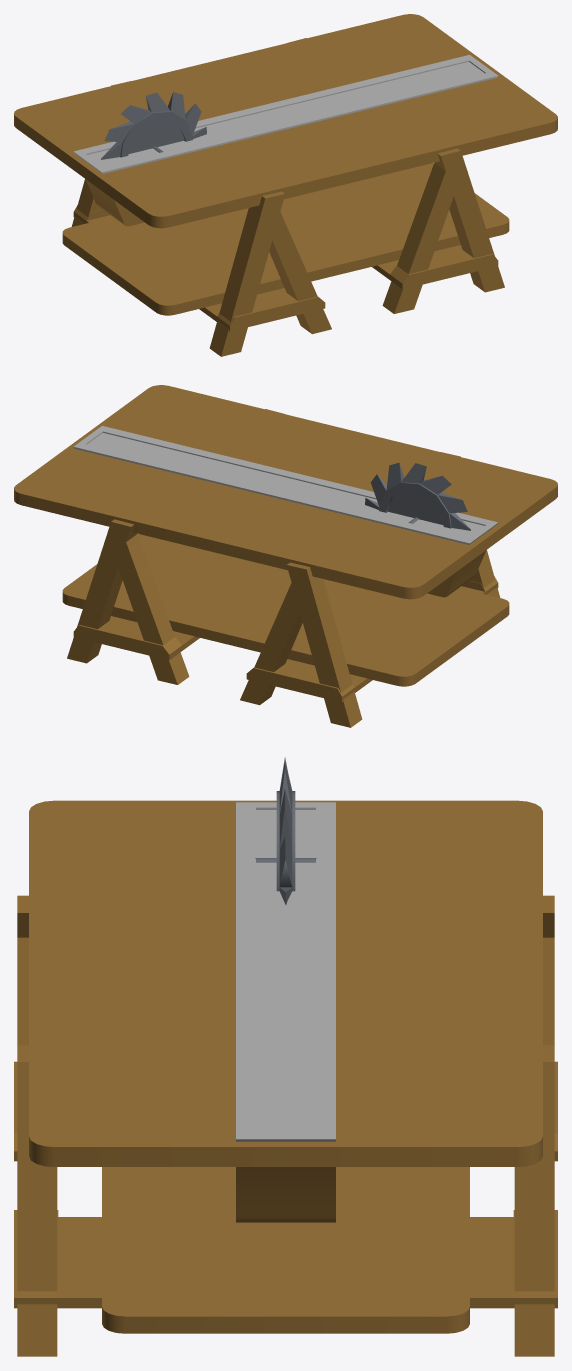
Rendered from carpentry_table.fbx.
3 views of the same model, one above another, from view 1: azimuth 30°, elevation 25°; view 2: azimuth 150°, elevation 25°; view 3: azimuth 270°, elevation 25° (orthographic). The views are drawn at different scales.
Visible parts, largest first — view 1: saw_table, rotating_saw.006; view 2: saw_table, rotating_saw.006; view 3: saw_table, rotating_saw.006.
Boxes of the visible parts, x1=… form: saw_table: x1=14, y1=14, x2=557, y2=356; rotating_saw.006: x1=101, y1=92, x2=206, y2=159; saw_table: x1=14, y1=385, x2=557, y2=727; rotating_saw.006: x1=365, y1=463, x2=470, y2=530; saw_table: x1=14, y1=800, x2=557, y2=1356; rotating_saw.006: x1=255, y1=757, x2=316, y2=904.
Bounding box in the file's own units: 3.39 × 1.63 × 2.25.
